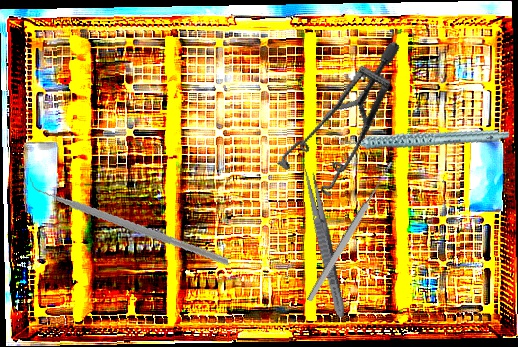Chopper: (28, 136, 229, 299)
Dressing Forceps: (300, 167, 349, 319)
Handpiece: (334, 97, 510, 176)
Speculum: (250, 40, 443, 211)
Surgical Spoon: (305, 160, 396, 303)
